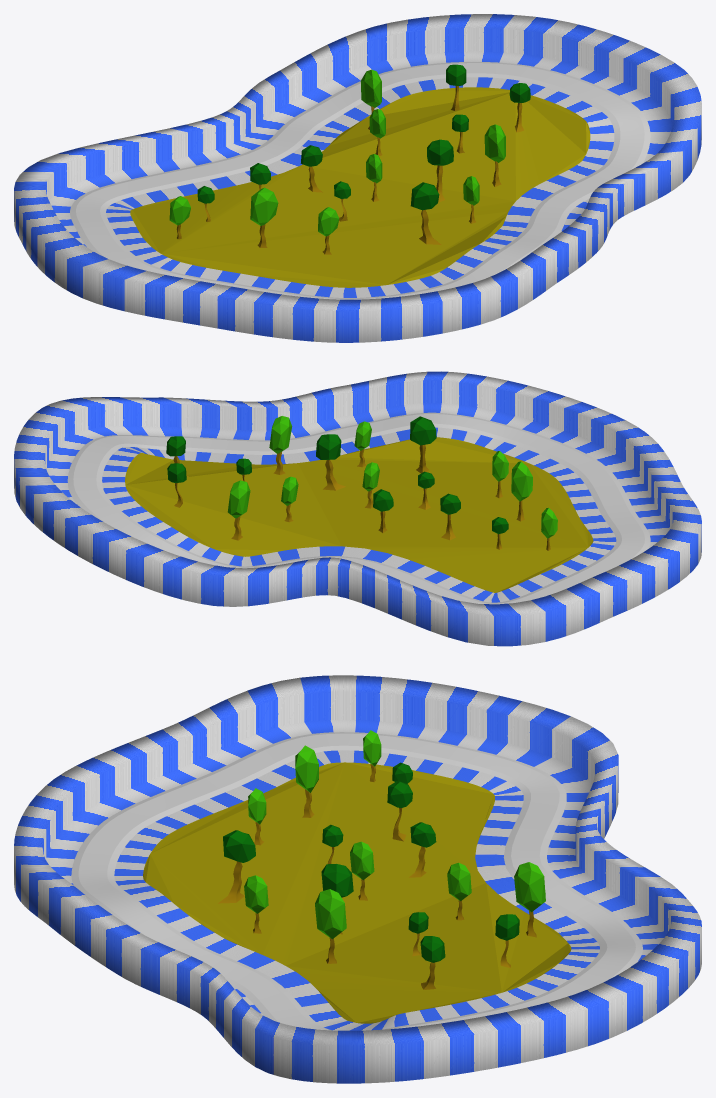
The model's file is racete12213.fbx.
The picture shows the model from 3 angles, top to bottom: view 1: azimuth 30°, elevation 25°; view 2: azimuth 150°, elevation 25°; view 3: azimuth 270°, elevation 25°; orthographic projection. The views are drawn at different scales.
Visible parts, largest first — view 1: Loft001, GeoSphere005, GeoSphere003, GeoSphere012, GeoSphere016, GeoSphere009, GeoSphere006, GeoSphere007, GeoSphere014, GeoSphere001, GeoSphere008; view 2: Loft001, GeoSphere012, GeoSphere005, GeoSphere009, GeoSphere016, GeoSphere003, GeoSphere002, GeoSphere007, GeoSphere015, GeoSphere017, GeoSphere011, GeoSphere006 (+2 smaller); view 3: Loft001, GeoSphere009, GeoSphere016, GeoSphere005, GeoSphere003, GeoSphere017, GeoSphere015, GeoSphere012, GeoSphere011, GeoSphere001, GeoSphere007, GeoSphere002 (+2 smaller).
Part boxes in pixels (x1,y1,x2,y2): Loft001: [14, 14, 701, 342]; GeoSphere005: [410, 182, 441, 244]; GeoSphere003: [250, 187, 278, 247]; GeoSphere012: [427, 139, 453, 202]; GeoSphere016: [484, 124, 505, 186]; GeoSphere009: [360, 69, 381, 129]; GeoSphere006: [318, 207, 339, 254]; GeoSphere007: [300, 145, 322, 192]; GeoSphere014: [169, 196, 190, 239]; GeoSphere001: [509, 83, 530, 132]; GeoSphere008: [446, 64, 466, 110]; Loft001: [14, 371, 701, 646]; GeoSphere012: [316, 434, 345, 490]; GeoSphere005: [410, 416, 436, 473]; GeoSphere009: [227, 480, 250, 540]; GeoSphere016: [269, 416, 292, 474]; GeoSphere003: [511, 461, 532, 521]; GeoSphere002: [440, 493, 460, 540]; GeoSphere007: [373, 489, 393, 532]; GeoSphere015: [354, 421, 371, 467]; GeoSphere017: [362, 462, 379, 508]; GeoSphere011: [281, 476, 298, 522]; GeoSphere006: [492, 451, 508, 498]; Loft001: [14, 675, 701, 1083]; GeoSphere009: [514, 862, 545, 937]; GeoSphere016: [315, 889, 346, 963]; GeoSphere005: [218, 830, 255, 903]; GeoSphere003: [295, 745, 318, 817]; GeoSphere017: [350, 841, 374, 900]; GeoSphere015: [244, 875, 268, 933]; GeoSphere012: [321, 864, 353, 934]; GeoSphere011: [447, 862, 471, 920]; GeoSphere001: [420, 936, 445, 989]; GeoSphere007: [409, 822, 436, 877]; GeoSphere002: [387, 780, 412, 841].
Bounding box in the file's own units: 12462 × 1421 × 9612.
